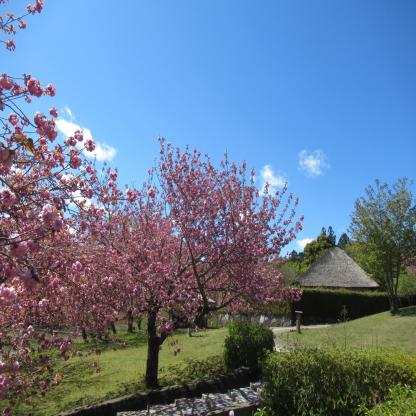YaeSakura: (0, 0, 121, 415), (122, 128, 304, 333), (105, 199, 162, 320), (60, 180, 94, 330), (86, 194, 124, 325)
